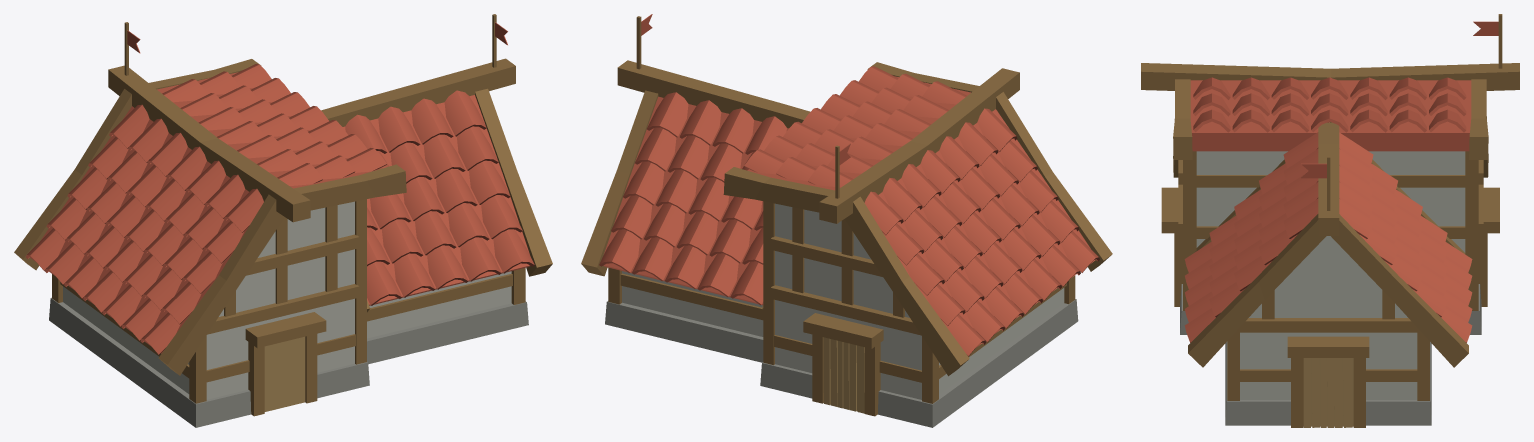
File: House-k6tP5nFUd2.glb
3 renders of one model, left to right at view 1: azimuth 30°, elevation 25°; view 2: azimuth 150°, elevation 25°; view 3: azimuth 270°, elevation 25°, orthographic. The views are drawn at different scales.
Parts seen in each view (by area): view 1: House-k6tP5nFUd2; view 2: House-k6tP5nFUd2; view 3: House-k6tP5nFUd2.
Boxes of the visible parts, x1=… form: House-k6tP5nFUd2: x1=14, y1=14, x2=552, y2=427; House-k6tP5nFUd2: x1=581, y1=14, x2=1112, y2=427; House-k6tP5nFUd2: x1=1141, y1=14, x2=1519, y2=427.
Size of the model in its own units: 1.55 by 0.9455 by 1.17.
